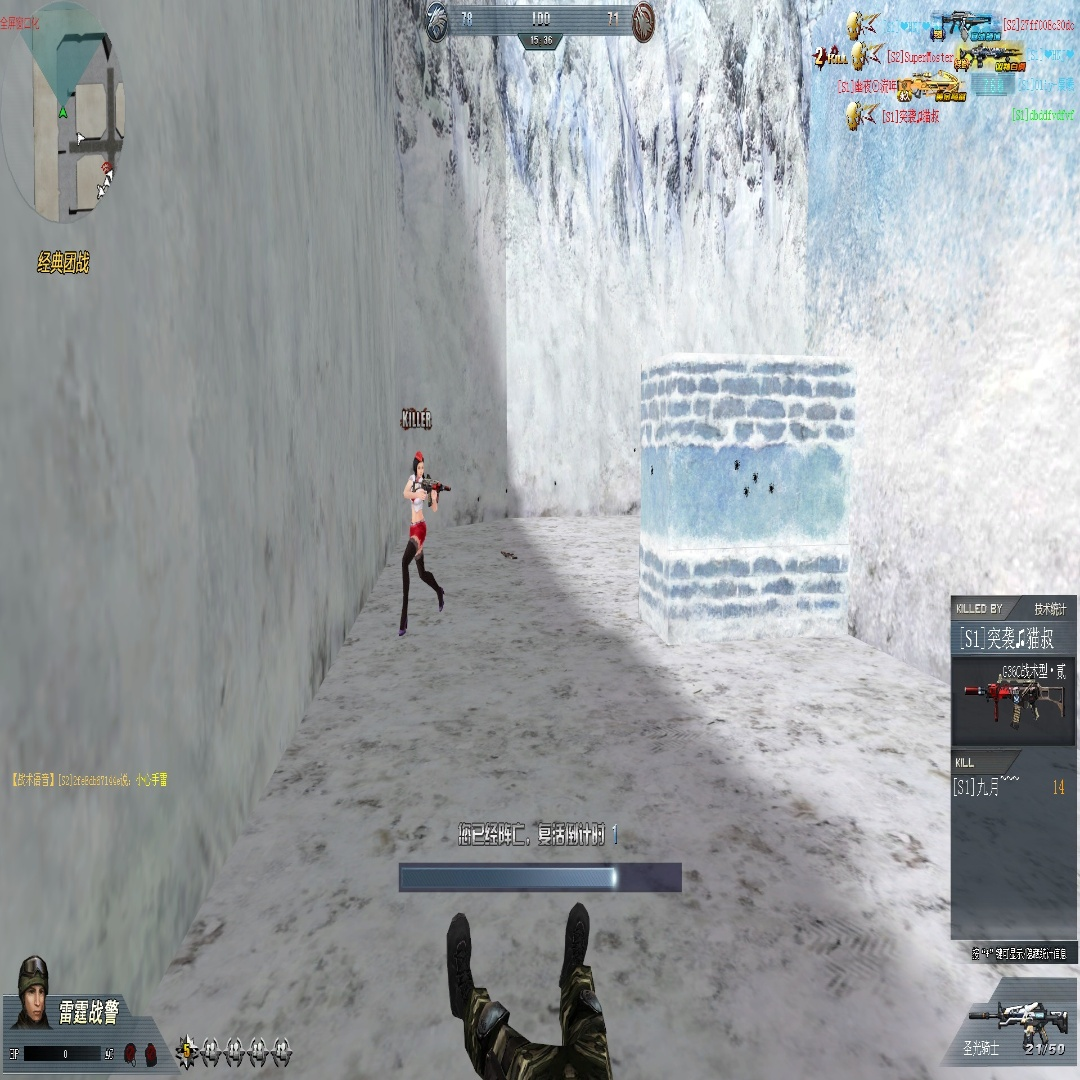t: (398, 451, 451, 633)
